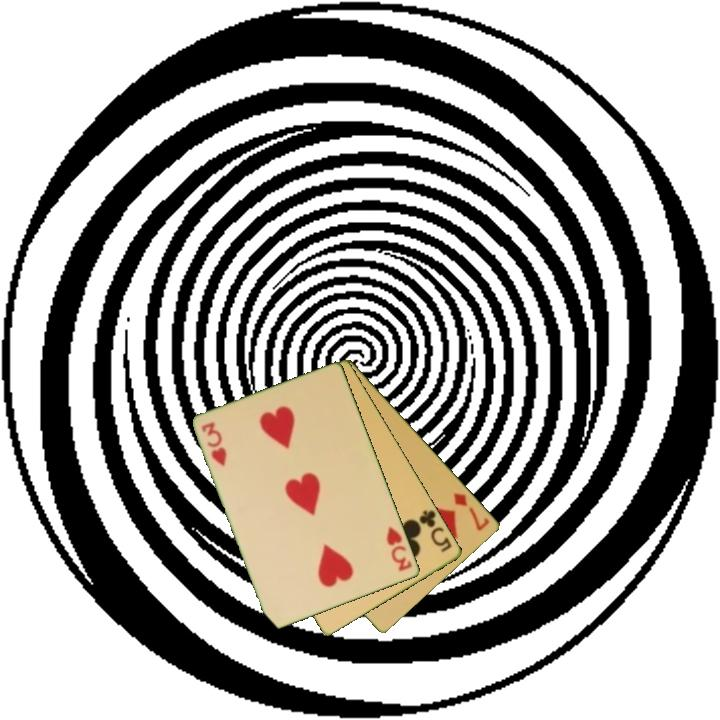3h: (383, 523, 415, 575), (198, 418, 230, 470)
5c: (414, 506, 455, 555)
7d: (450, 489, 493, 534)
